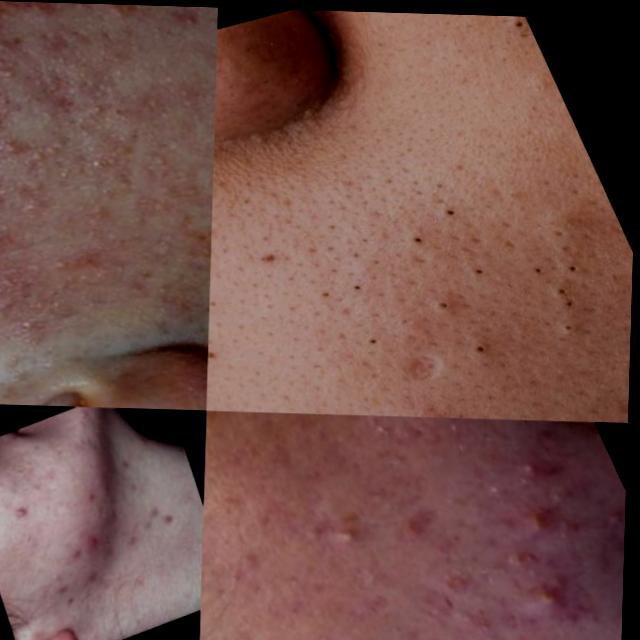8: (77, 517, 122, 557), (41, 550, 76, 593), (9, 495, 41, 526)
9: (511, 496, 564, 531), (525, 571, 573, 603)
blackheads: (387, 345, 451, 386)
dark spot: (514, 239, 622, 344), (425, 175, 478, 225), (351, 316, 401, 360), (418, 279, 467, 316), (458, 330, 509, 365), (393, 212, 437, 251), (542, 391, 602, 418), (461, 247, 500, 280), (496, 12, 535, 42), (409, 397, 465, 414)
